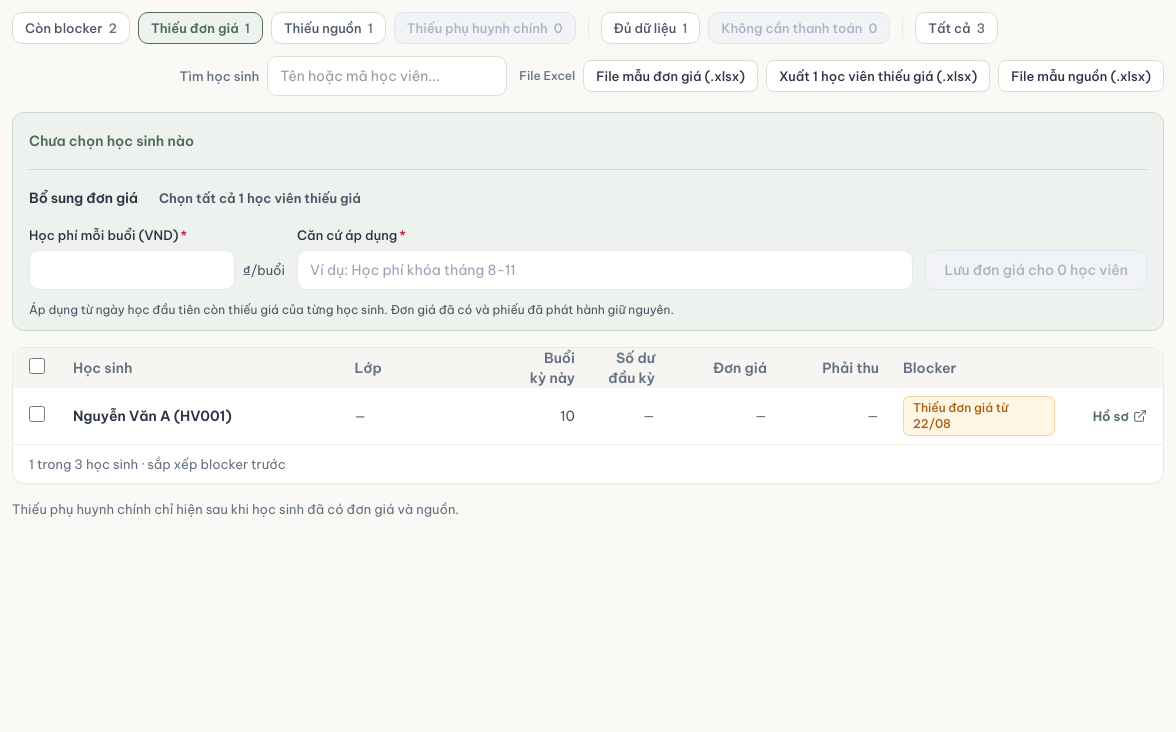
it: TuitionReadinessTable › supports select all missing rates and checkbox toggle
Click the button "Chọn tất cả 1 học viên thiếu giá": (260,198) [146,182,374,214]
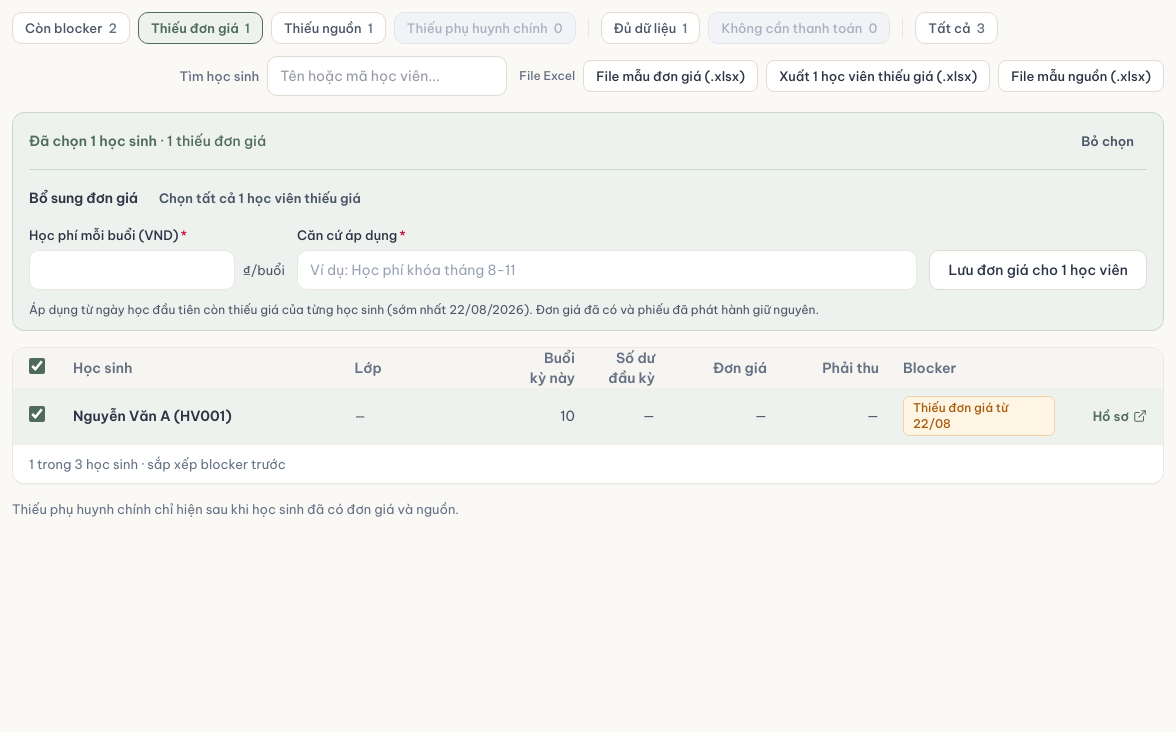
Expected: the button "Lưu đơn giá cho 1 học viên" is enabled, [929,250,1147,290]
Note: Clear selection: "Bỏ chọn" unmounts, so focus moves to the summary that stays.
Click the button "Bỏ chọn": (1108,141) [1068,125,1147,157]
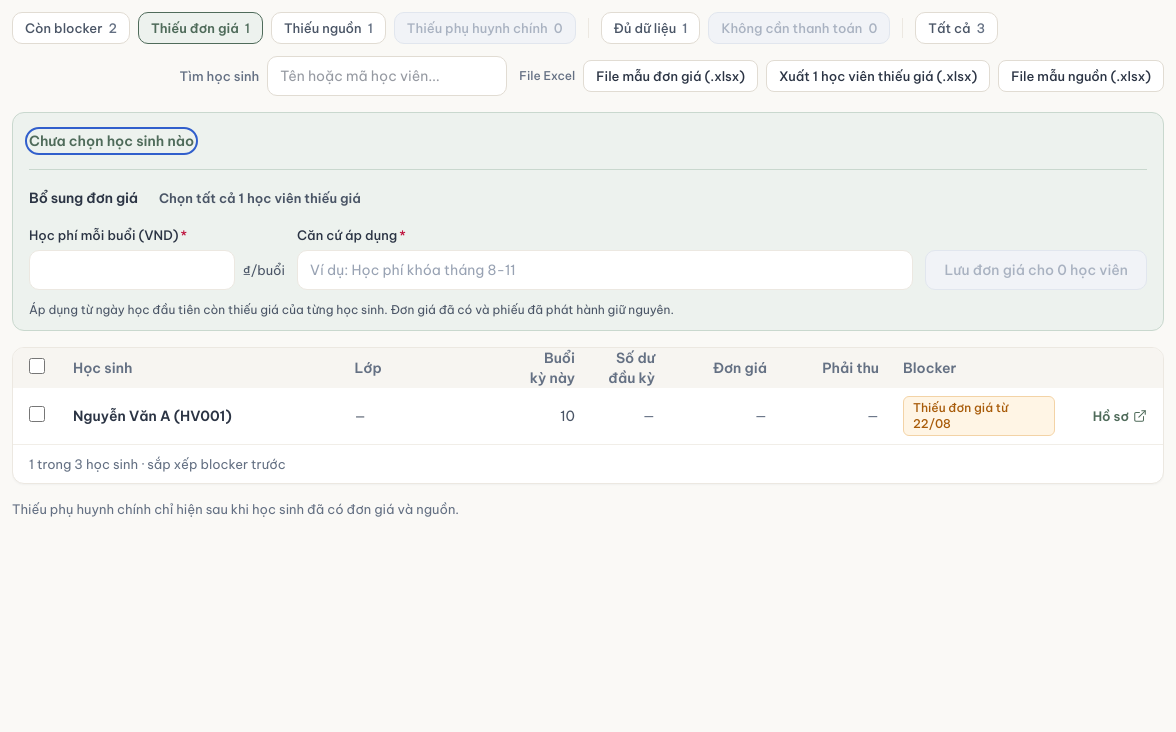
Expected: the button "Lưu đơn giá cho 0 học viên" is disabled, [926,250,1147,290]
